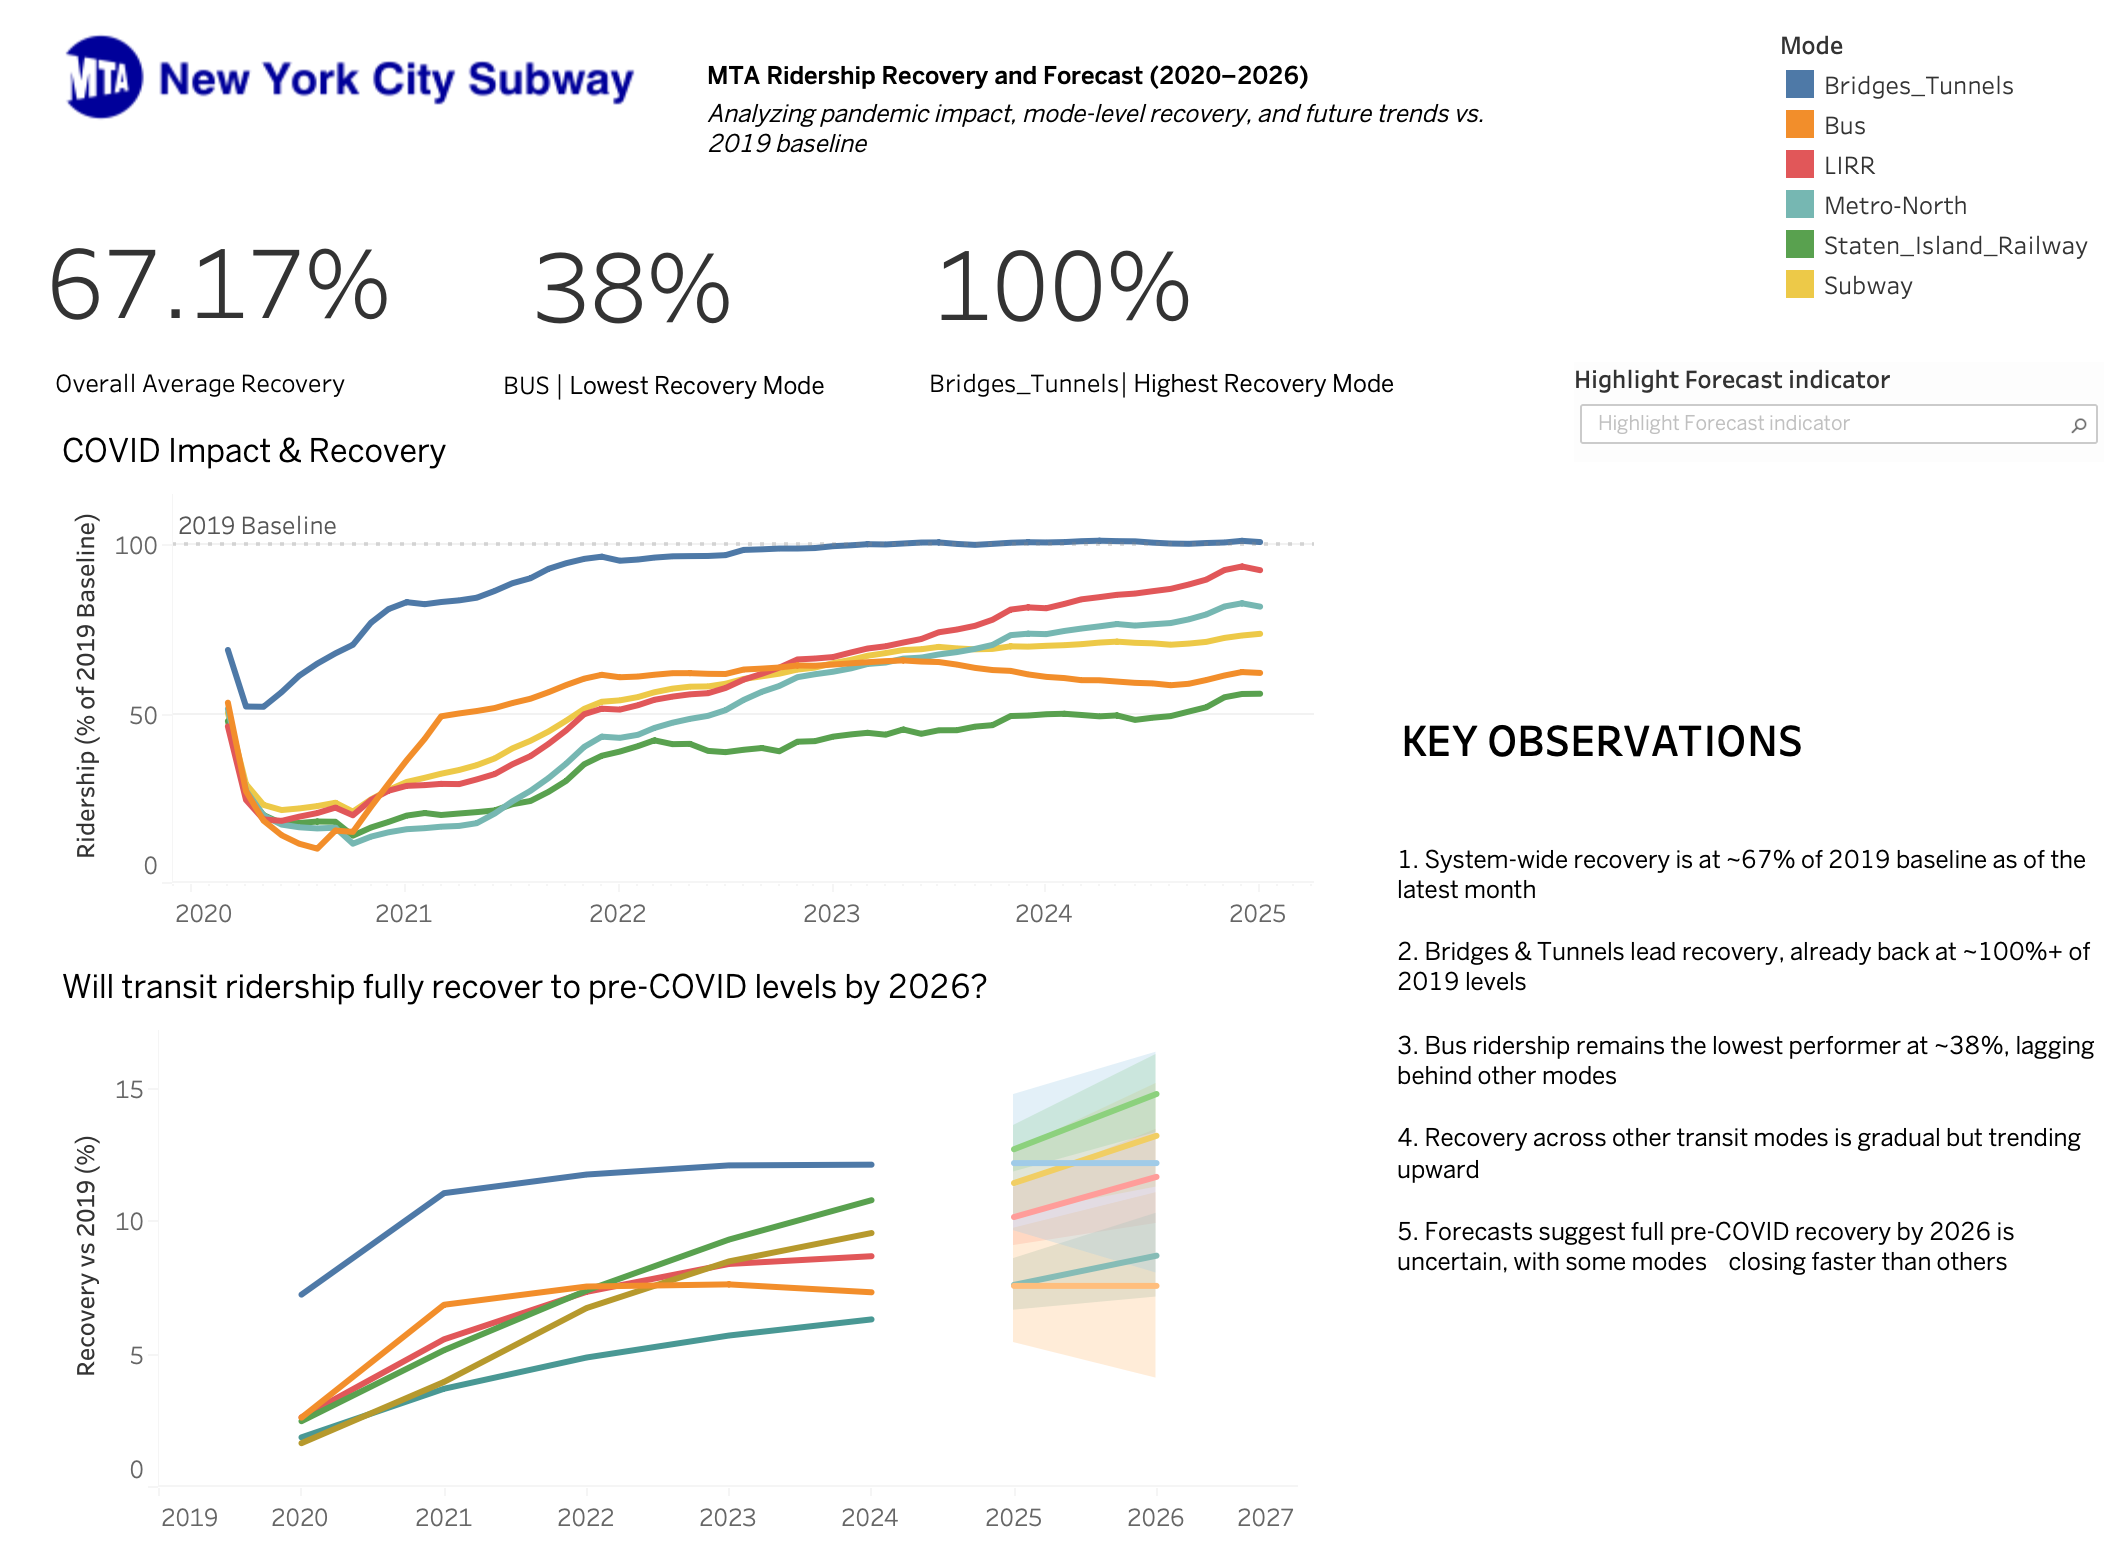

Layout of this report page (visuals, bound fields, positions):
{"tool":"tableau","page":{"name":"Dashboard 1","canvas":[1000,1000],"units":"permille","ordinal":0},"visuals":[{"type":"image","param":"Image/MTA_New_York_City_Subway_logo.svg.png","box":[31.6,17.8,276.7,77.5]},{"type":"text","box":[333.3,21.6,594.2,64.8]},{"type":"legend","title":"Sheet 1","param":"[federated.1cwqj2t11fii4d14u68ah15norun].[none:mode:nk]","box":[833.8,22.9,147.6,194.4]},{"type":"text","box":[333.3,61,367.7,52.1]},{"type":"worksheet","title":"KPI_1","mark":"Automatic","box":[7.4,122,190.3,118.2]},{"type":"worksheet","title":"KPI_2","mark":"Automatic","box":[435.5,123.2,204.3,114.4]},{"type":"worksheet","title":"KPI_3","mark":"Automatic","box":[240.5,124.5,216.3,193.1]},{"type":"text","box":[436.4,227.5,218.2,40.7]},{"type":"text","box":[30.6,228.7,140.2,38.1]},{"type":"text","box":[238.6,230,167.1,38.1]},{"type":"highlighter","title":"Sheet 6","param":"[federated.05kg2c30pzpoe7101wxnk0jg61gu].[none:Forecast Indicator:nk]","box":[738.2,235.1,246.1,63.5]},{"type":"worksheet","title":"Sheet 1","mark":"Line","cols":["dte"],"box":[32.5,273.2,585,330.4]},{"type":"text","box":[655.5,449.8,274.8,49.6]},{"type":"text","box":[653.7,509.5,333.3,352]},{"type":"worksheet","title":"Sheet 6","mark":"Automatic","rows":["Calculation_1990309607734894605"],"cols":["month"],"box":[32.5,613.7,577.5,373.6]}]}

Visuals, with their boxes on the dashboard's canvas, which has no fixed pixel size, in thousandths of its width and height (x1, y1, x2, y2). These are canvas units, not pixel positions in the 2124x1558 screenshot, which may show the page scaled, cropped or inside an application window:
image: x1=32, y1=18, x2=308, y2=95
text: x1=333, y1=22, x2=928, y2=86
"Sheet 1" legend: x1=834, y1=23, x2=981, y2=217
text: x1=333, y1=61, x2=701, y2=113
"KPI_1" worksheet: x1=7, y1=122, x2=198, y2=240
"KPI_2" worksheet: x1=436, y1=123, x2=640, y2=238
"KPI_3" worksheet: x1=240, y1=124, x2=457, y2=318
text: x1=436, y1=228, x2=655, y2=268
text: x1=31, y1=229, x2=171, y2=267
text: x1=239, y1=230, x2=406, y2=268
"Sheet 6" highlighter: x1=738, y1=235, x2=984, y2=299
"Sheet 1" worksheet (Line marks): x1=32, y1=273, x2=618, y2=604
text: x1=656, y1=450, x2=930, y2=499
text: x1=654, y1=510, x2=987, y2=862
"Sheet 6" worksheet: x1=32, y1=614, x2=610, y2=987
